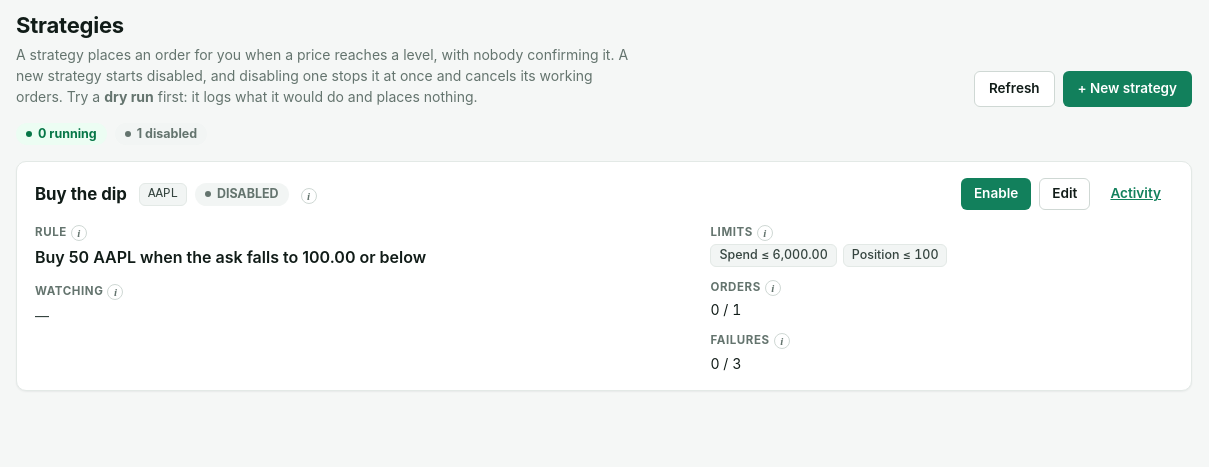
Test: StrategiesComponent › the list › enables a strategy and shows its new status
Click the button "Enable" at coordinates (996, 194), box [961, 178, 1031, 210]
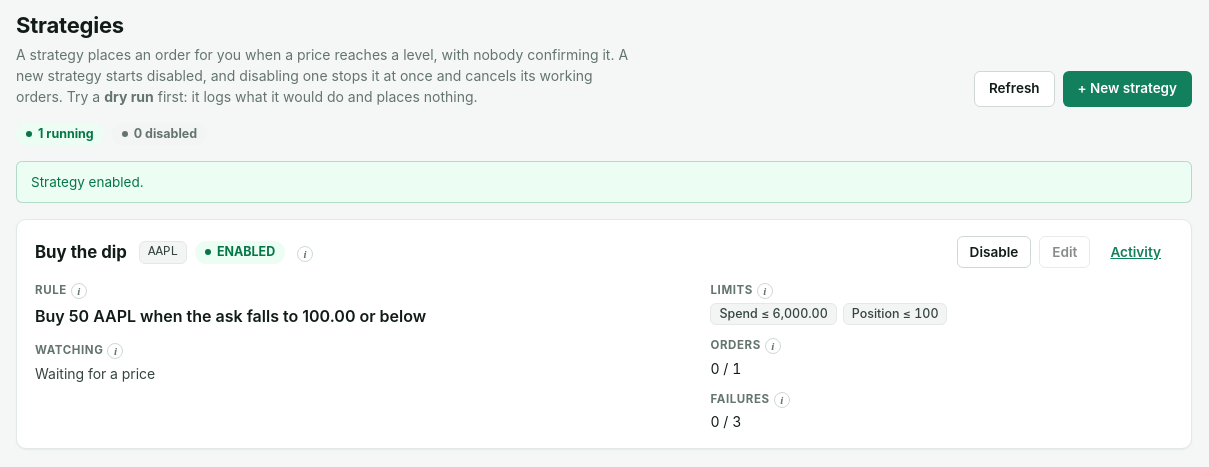
Now the text "ENABLED" is shown, box [195, 241, 285, 264]
